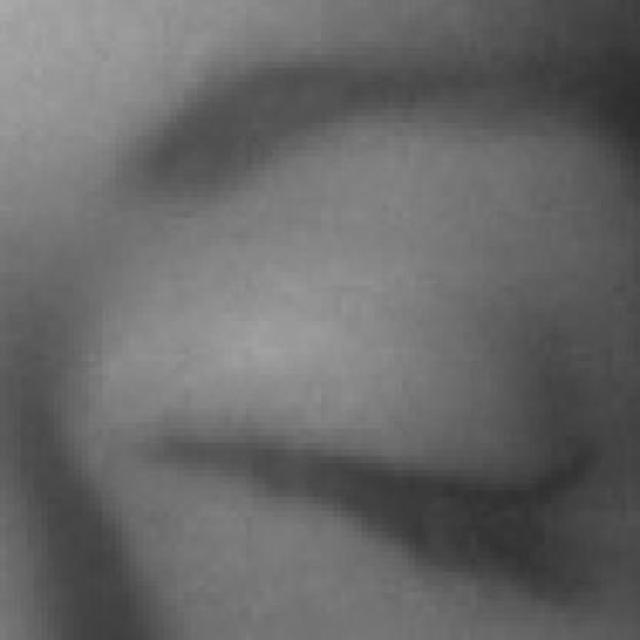drowsy: (150, 258, 592, 634)
